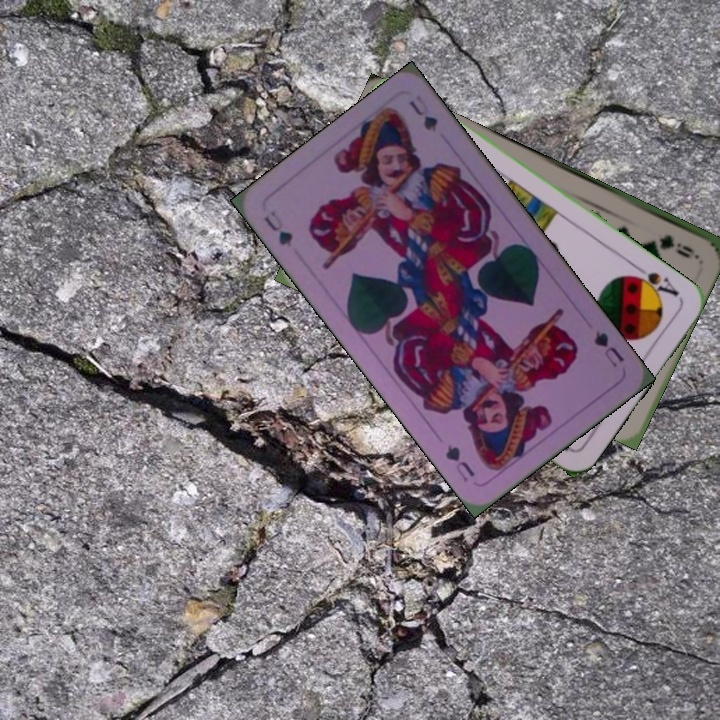G9: (645, 231, 699, 261)
GU: (589, 326, 627, 370), (259, 206, 296, 250)
SA: (625, 261, 682, 300)
